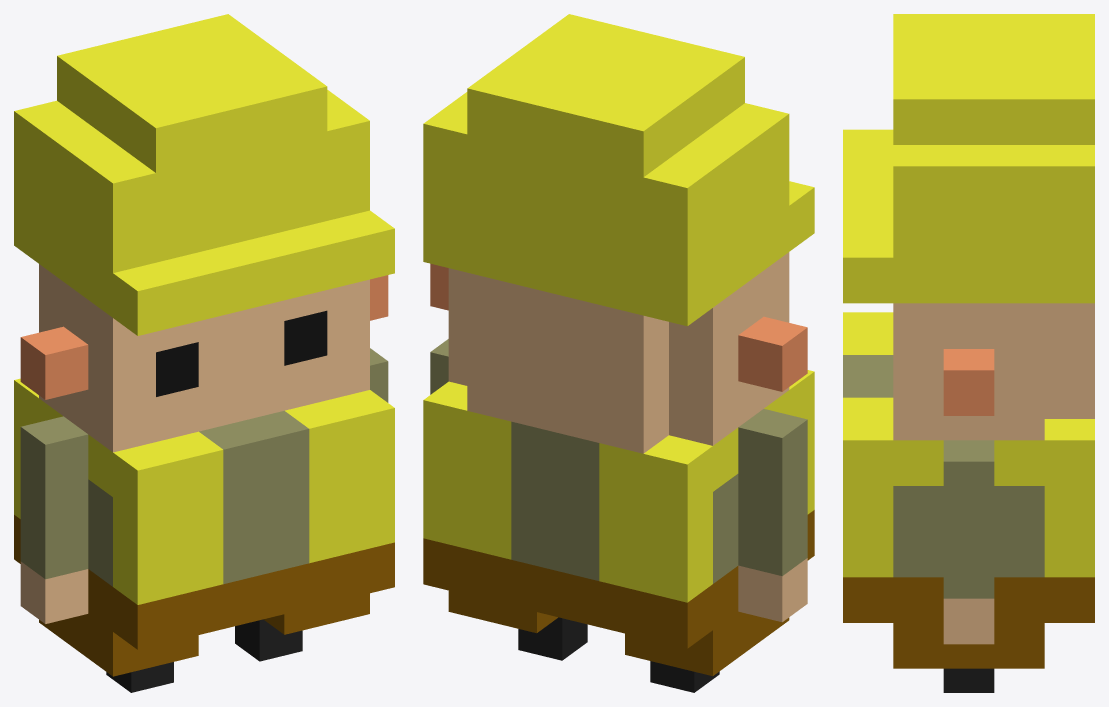
Rendered from chr_worker1.obj.
The picture shows the model from 3 angles, left to right: view 1: azimuth 30°, elevation 25°; view 2: azimuth 150°, elevation 25°; view 3: azimuth 270°, elevation 25°; orthographic projection. The views are drawn at different scales.
Size of the model in its own units: 0.8 by 1.3 by 0.5.
1 material, 1 textured.
